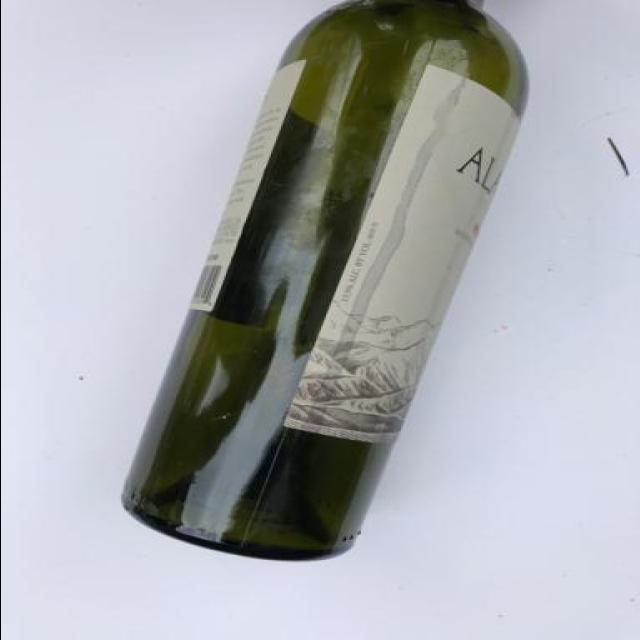glass: (107, 0, 633, 563)
